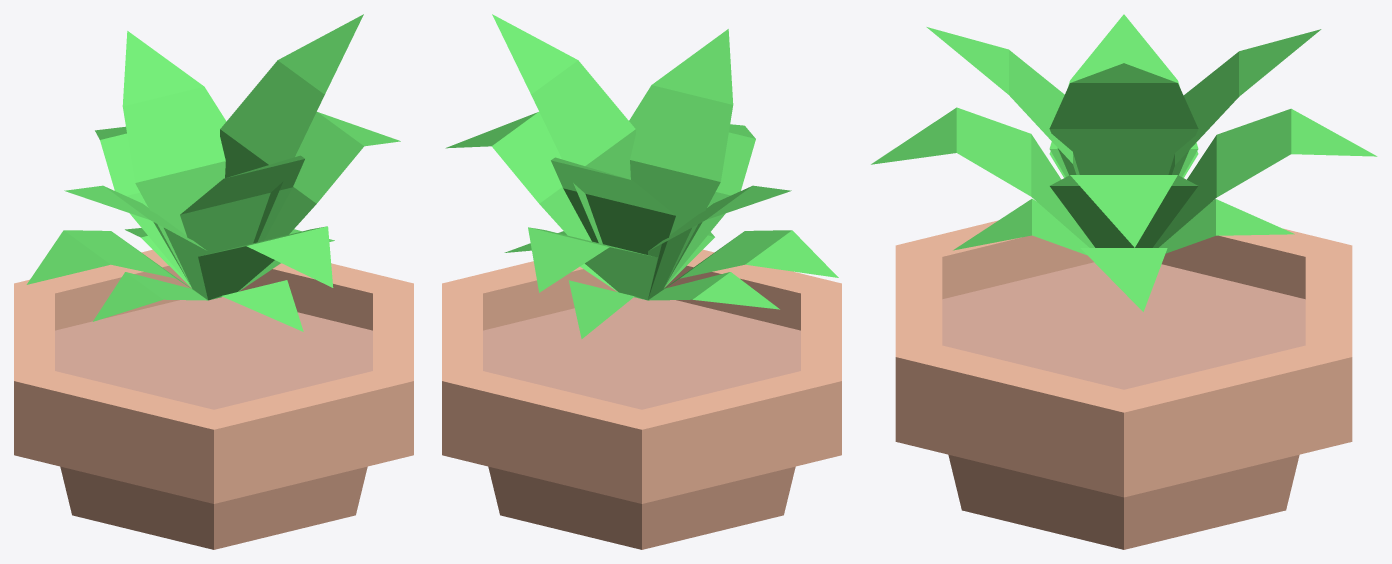
The model's file is pot_large_bush.glb.
3 views of the same model, side by side, from view 1: azimuth 30°, elevation 25°; view 2: azimuth 150°, elevation 25°; view 3: azimuth 270°, elevation 25° (orthographic). The views are drawn at different scales.
Visible parts, largest first — view 1: pot_large, plant_bushDetailed; view 2: pot_large, plant_bushDetailed; view 3: pot_large, plant_bushDetailed.
Boxes of the visible parts, x1,y1,x2,y2 form: pot_large: (14,249,413,549); plant_bushDetailed: (26,14,400,331); pot_large: (442,249,841,549); plant_bushDetailed: (445,14,838,338); pot_large: (895,220,1352,549); plant_bushDetailed: (871,14,1377,311).
Size of the model in its own units: 1.07 by 1.1 by 1.03.
